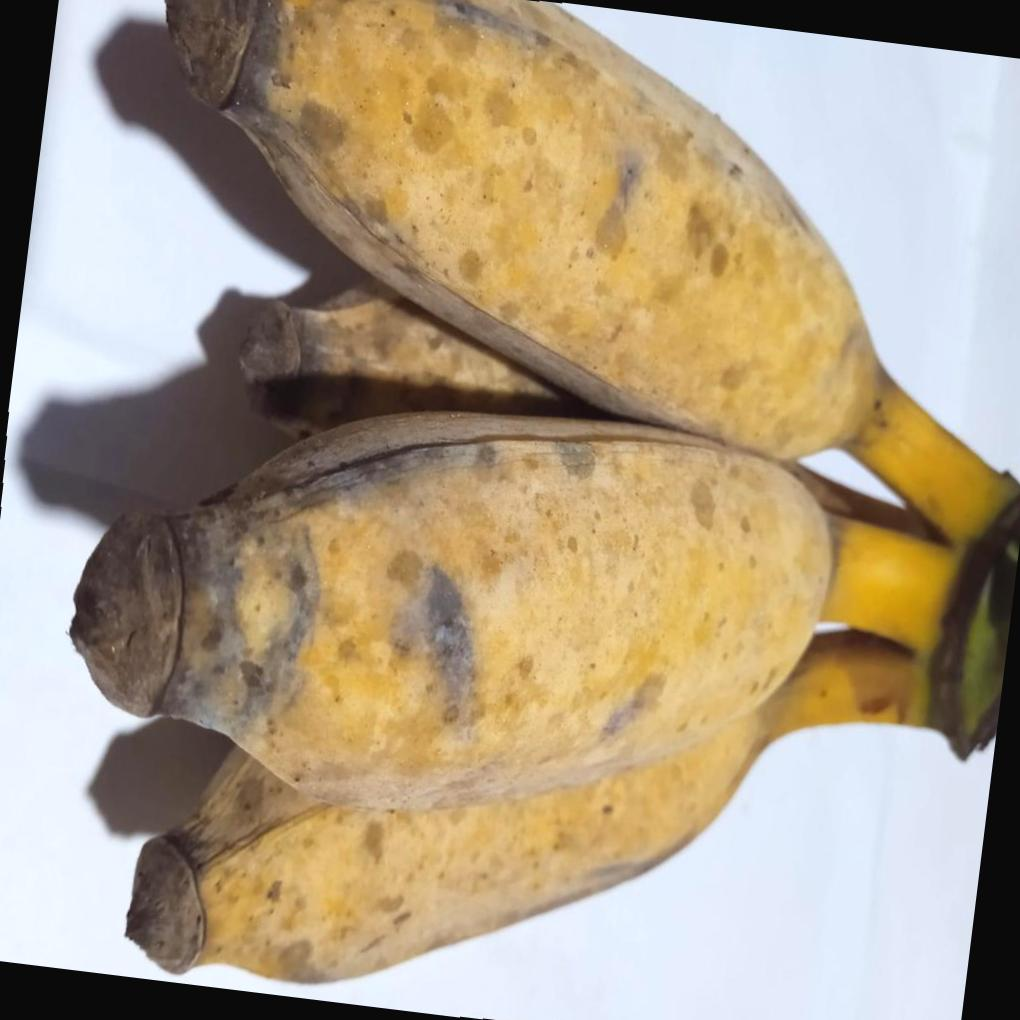Banana Ripe: (111, 0, 1020, 571), (52, 347, 984, 890), (96, 546, 1006, 1020)
